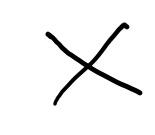mult: (45, 23, 144, 106)
